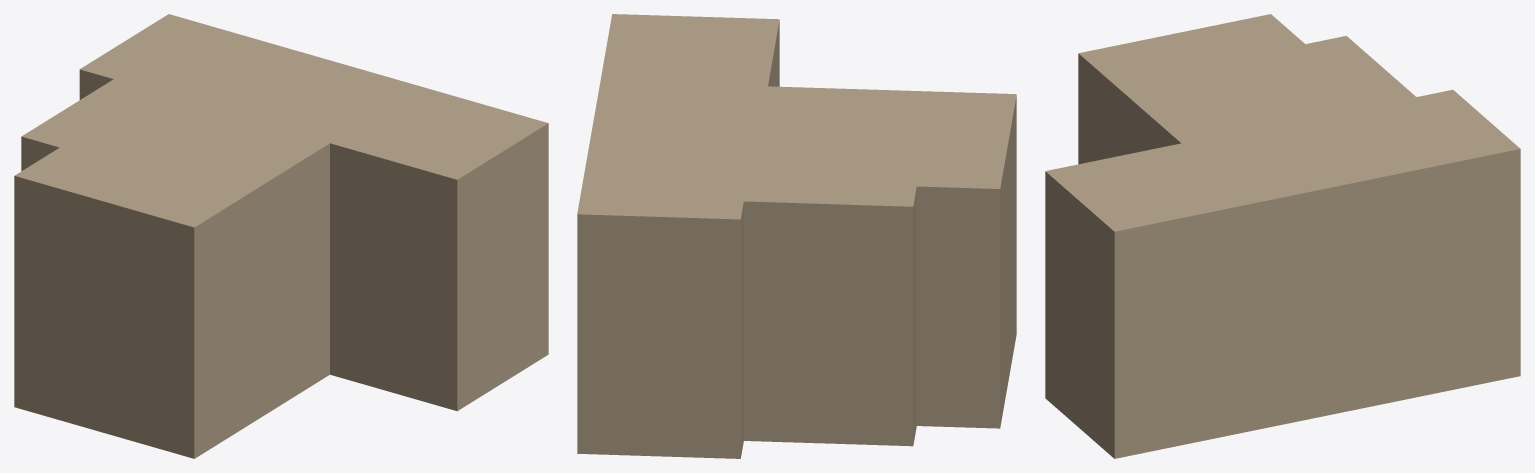
Rendered from bld_107610392.dae.
3 renders of one model, left to right at view 1: azimuth 30°, elevation 25°; view 2: azimuth 150°, elevation 25°; view 3: azimuth 270°, elevation 25°, orthographic. The views are drawn at different scales.
Parts seen in each view (by area): view 1: bld_107610392; view 2: bld_107610392; view 3: bld_107610392.
Part boxes in pixels (x1,y1,x2,y2): bld_107610392: (14, 14, 548, 458); bld_107610392: (577, 14, 1016, 458); bld_107610392: (1045, 14, 1520, 458).
Bounding box in the file's own units: 16.45 × 15.17 × 8.
